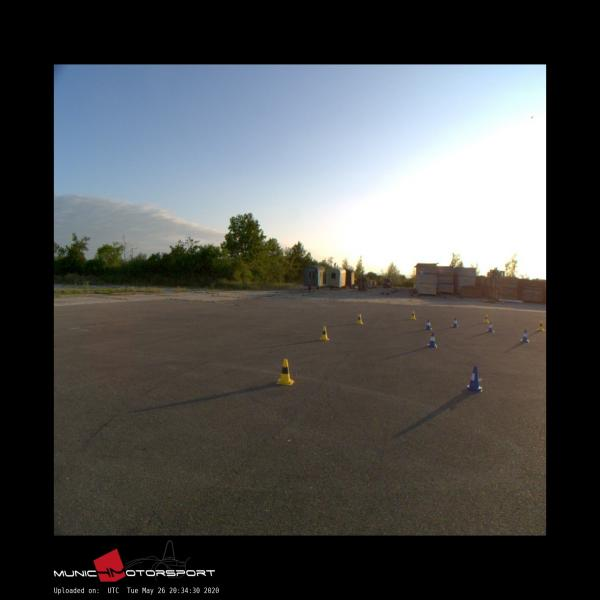blue_cone: (466, 366, 482, 392), (427, 332, 436, 346), (520, 328, 529, 342), (487, 321, 495, 332), (424, 318, 431, 330), (451, 318, 458, 327)
yellow_cone: (276, 359, 293, 385), (320, 326, 328, 340), (356, 313, 362, 324), (538, 320, 544, 330), (410, 311, 416, 319), (484, 314, 489, 323)
